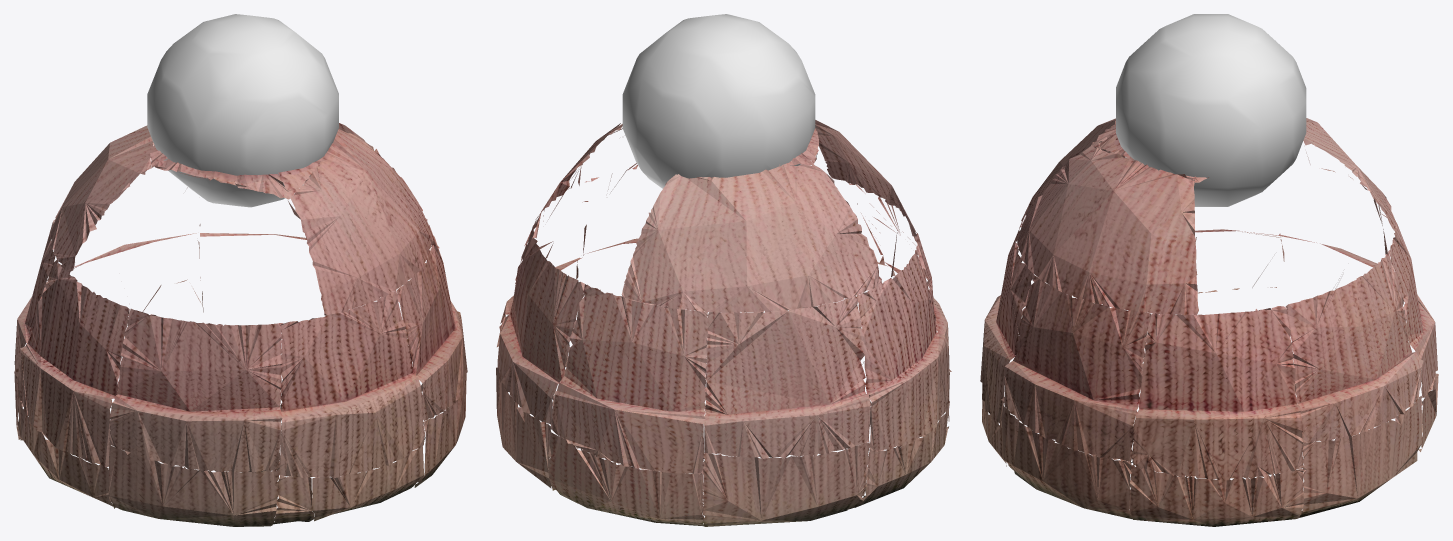
File: knit_beanie.glb
3 views of the same model, side by side, from view 1: azimuth 30°, elevation 25°; view 2: azimuth 150°, elevation 25°; view 3: azimuth 270°, elevation 25° (orthographic).
Parts seen in each view (by area): view 1: beanie_body, beanie_pompom; view 2: beanie_body, beanie_pompom; view 3: beanie_body, beanie_pompom.
Boxes of the visible parts, x1,y1,x2,y2 form: beanie_body: (14, 123, 467, 526); beanie_pompom: (147, 14, 338, 207); beanie_body: (496, 120, 951, 526); beanie_pompom: (622, 14, 815, 188); beanie_body: (980, 118, 1438, 526); beanie_pompom: (1116, 14, 1306, 206).
Bounding box in the file's own units: 0.4555 × 0.4702 × 0.455.
Materials: 1 (1 with a texture image).
